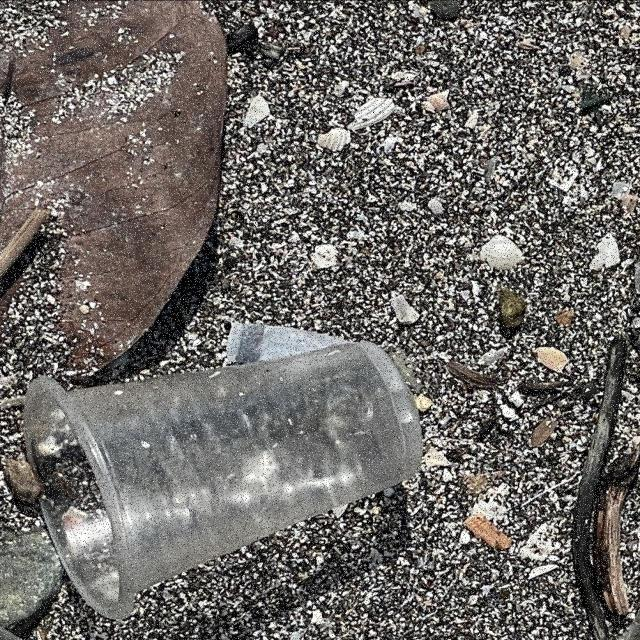plastic_waste: (23, 319, 425, 613)
